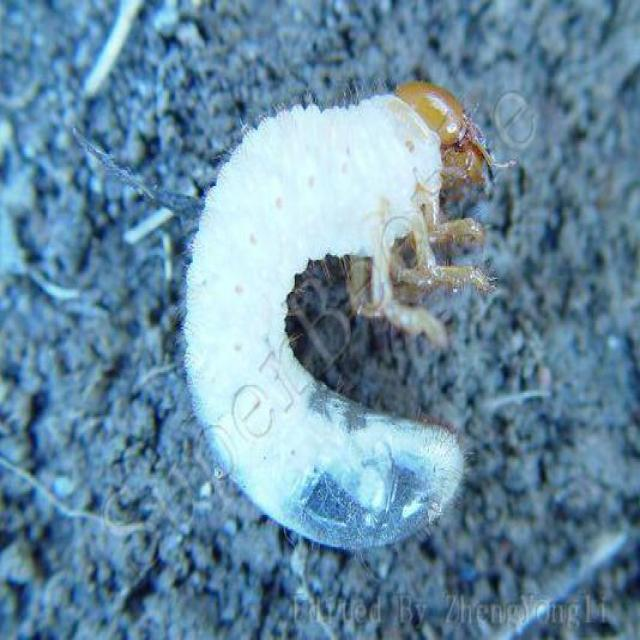Grub-Adult-: (138, 62, 536, 575)
